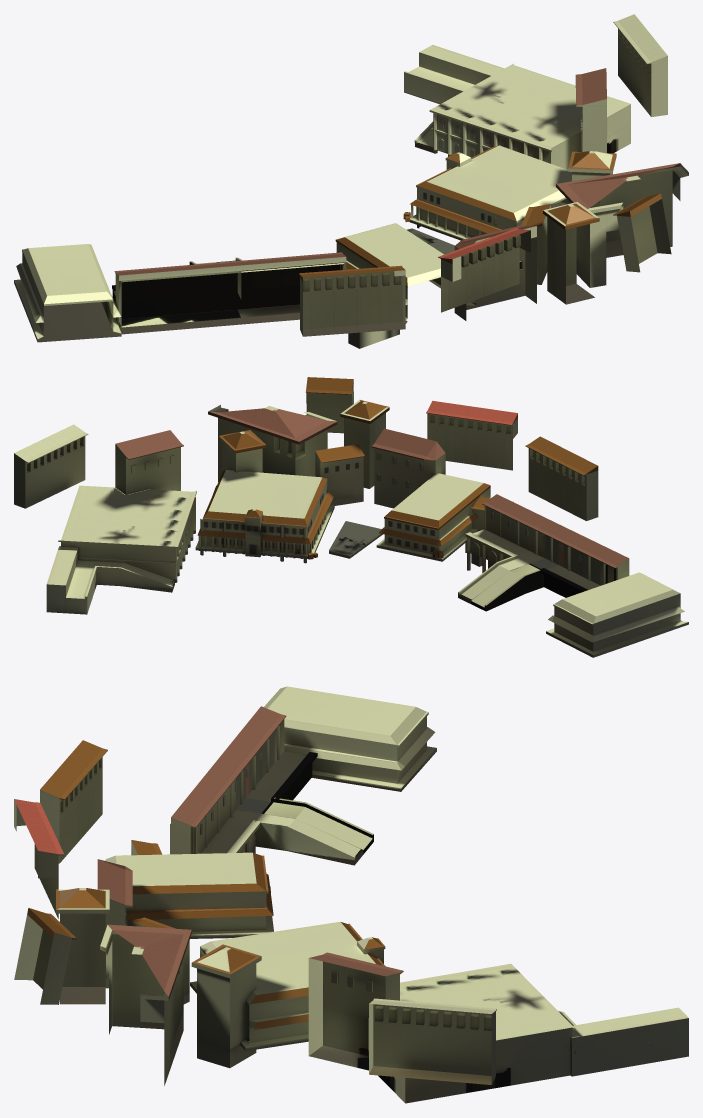
Rendered from era1Buildings.glb.
3 renders of one model, top to bottom at view 1: azimuth 30°, elevation 25°; view 2: azimuth 150°, elevation 25°; view 3: azimuth 270°, elevation 25°, orthographic. The views are drawn at different scales.
Visible parts, largest first — view 1: Cube.060; view 2: Cube.060; view 3: Cube.060.
Part boxes in pixels (x1,y1,x2,y2): Cube.060: (14, 14, 688, 348); Cube.060: (14, 377, 688, 657); Cube.060: (14, 686, 688, 1103).
Bounding box in the file's own units: 842 × 142 × 597.
6 materials, 6 textured.
